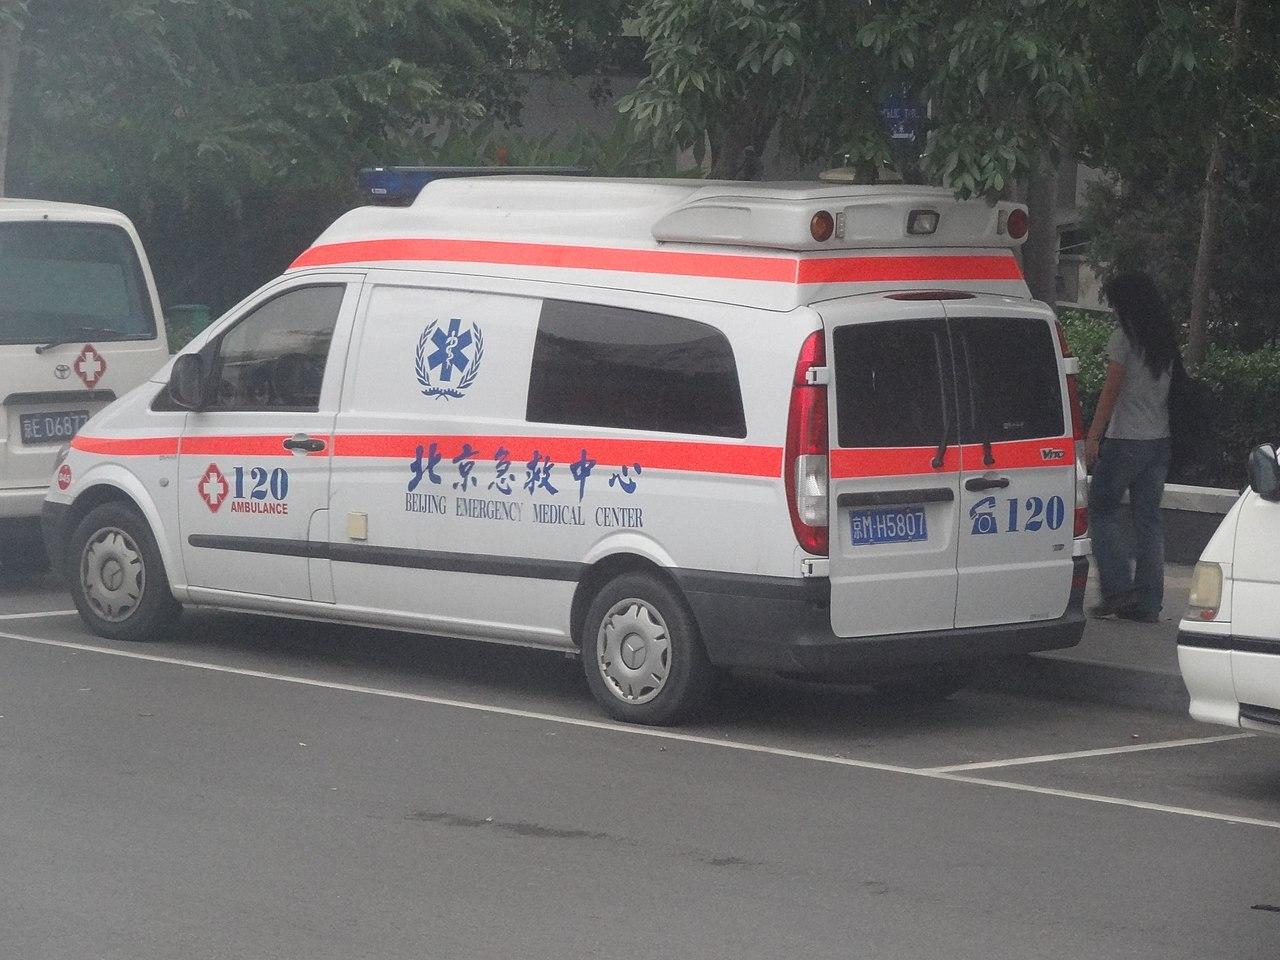ambulance_off: (40, 175, 1084, 727)
